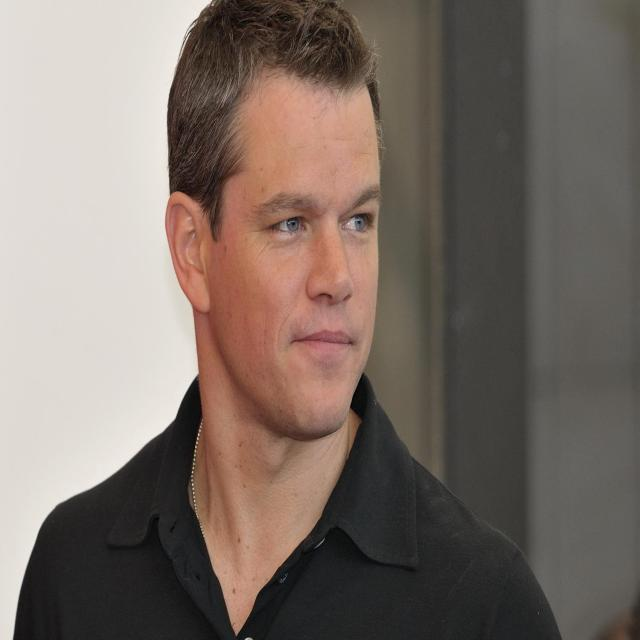no-earmuff: (164, 189, 209, 312)
